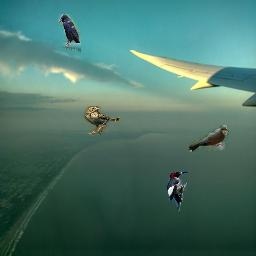Crow: (58, 14, 81, 54)
Cuckoo: (189, 125, 229, 152)
Sparrow: (82, 106, 122, 136)
Woodpecker: (167, 171, 188, 211)
